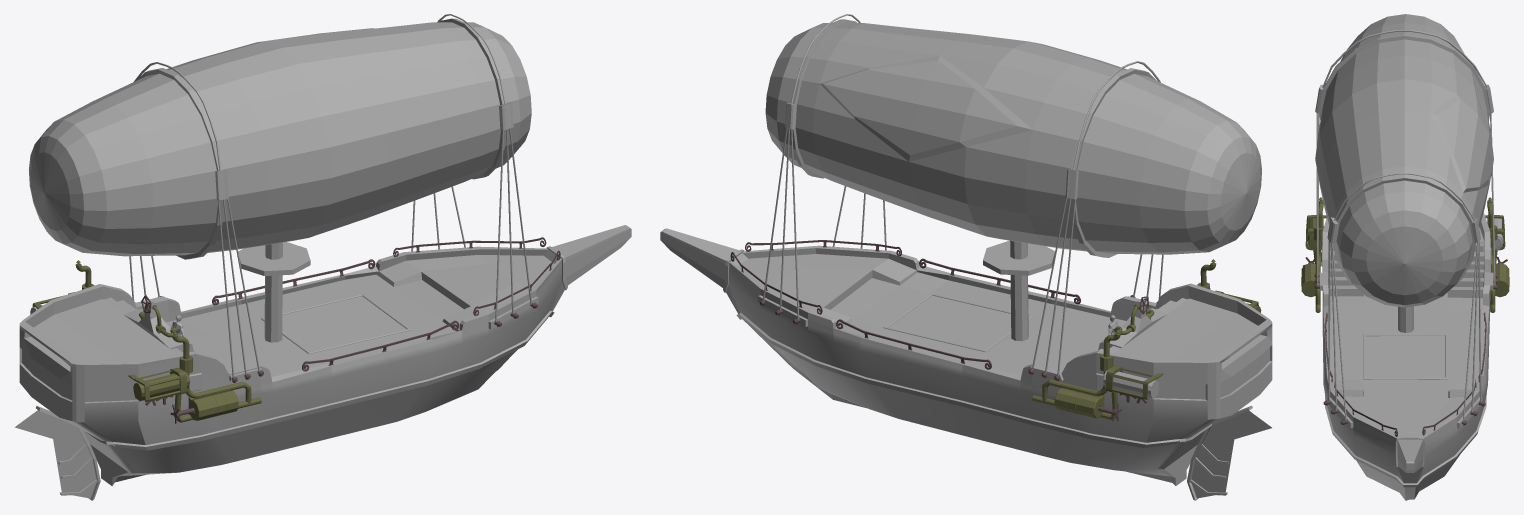
File: ship.fbx
3 renders of one model, left to right at view 1: azimuth 30°, elevation 25°; view 2: azimuth 150°, elevation 25°; view 3: azimuth 270°, elevation 25°, orthographic. The views are drawn at different scales.
Parts seen in each view (by area): view 1: ship; view 2: ship; view 3: ship.
Boxes of the visible parts, x1,y1,x2,y2 form: ship: (14,14,631,500); ship: (660,14,1272,500); ship: (1301,14,1509,500).
Bounding box in the file's own units: 119 × 75.92 × 39.68.
